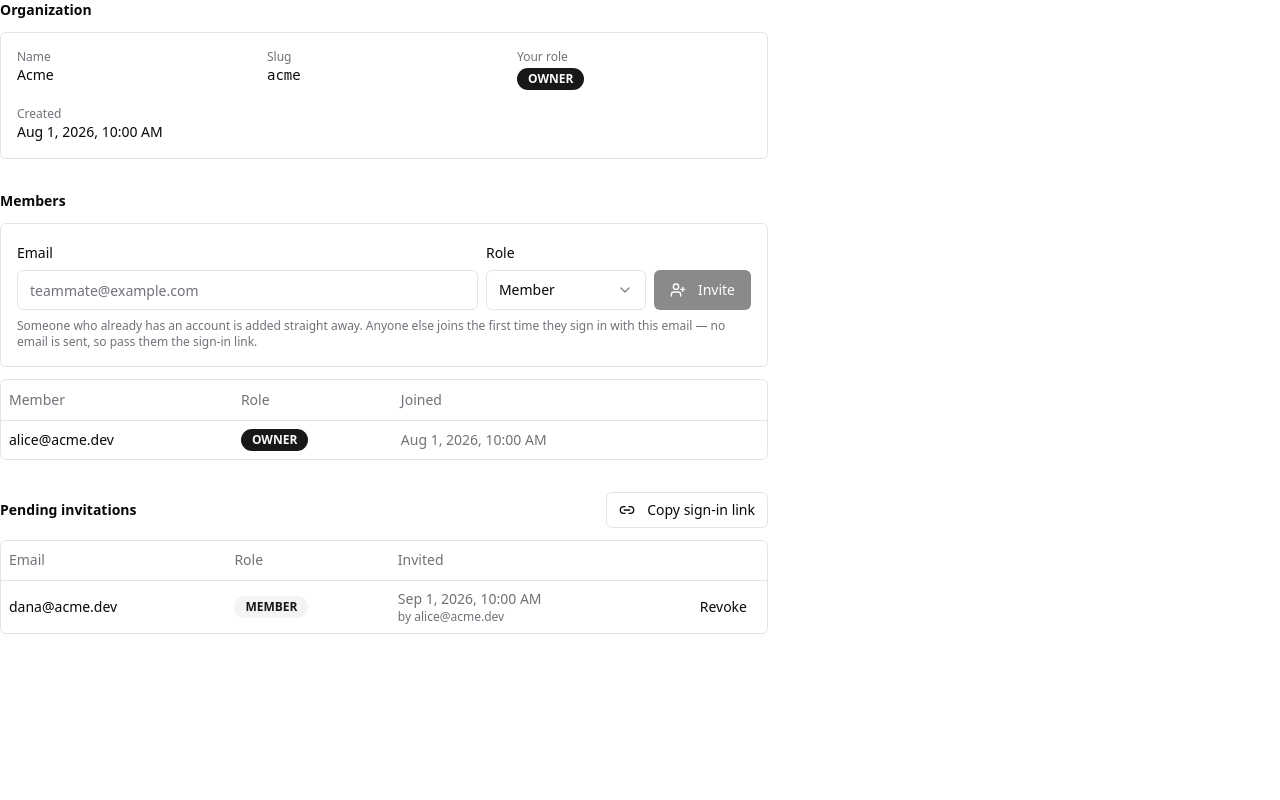
Test case: OrganizationTab invitations › revokes a pending invitation after confirming
This screenshot has width=1280, height=800.
Expected: the text "MEMBER" is shown, [234,596,308,618]
Click the button with test id "invitation-revoke-dana@acme.dev": (723, 607) [688,589,759,625]
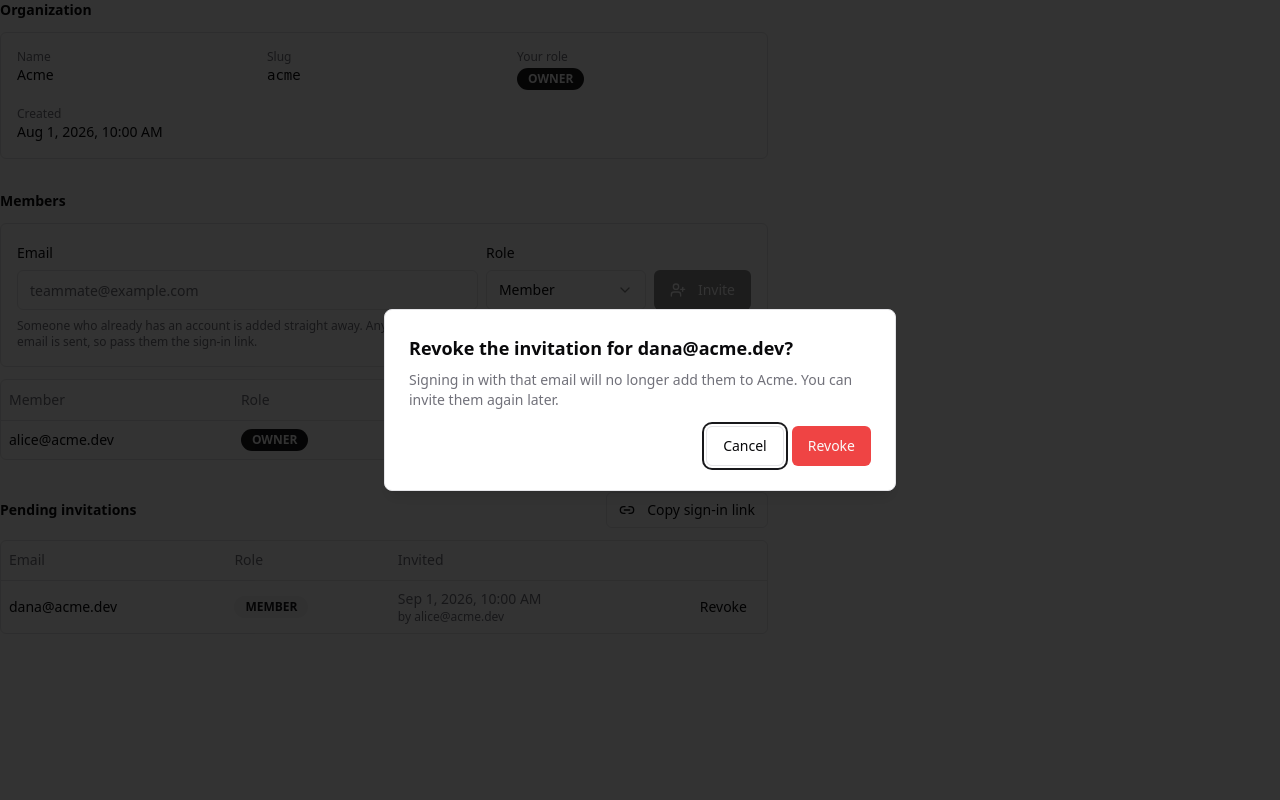
Click the button with test id "invitation-revoke-confirm": (831, 446) [792,426,871,466]
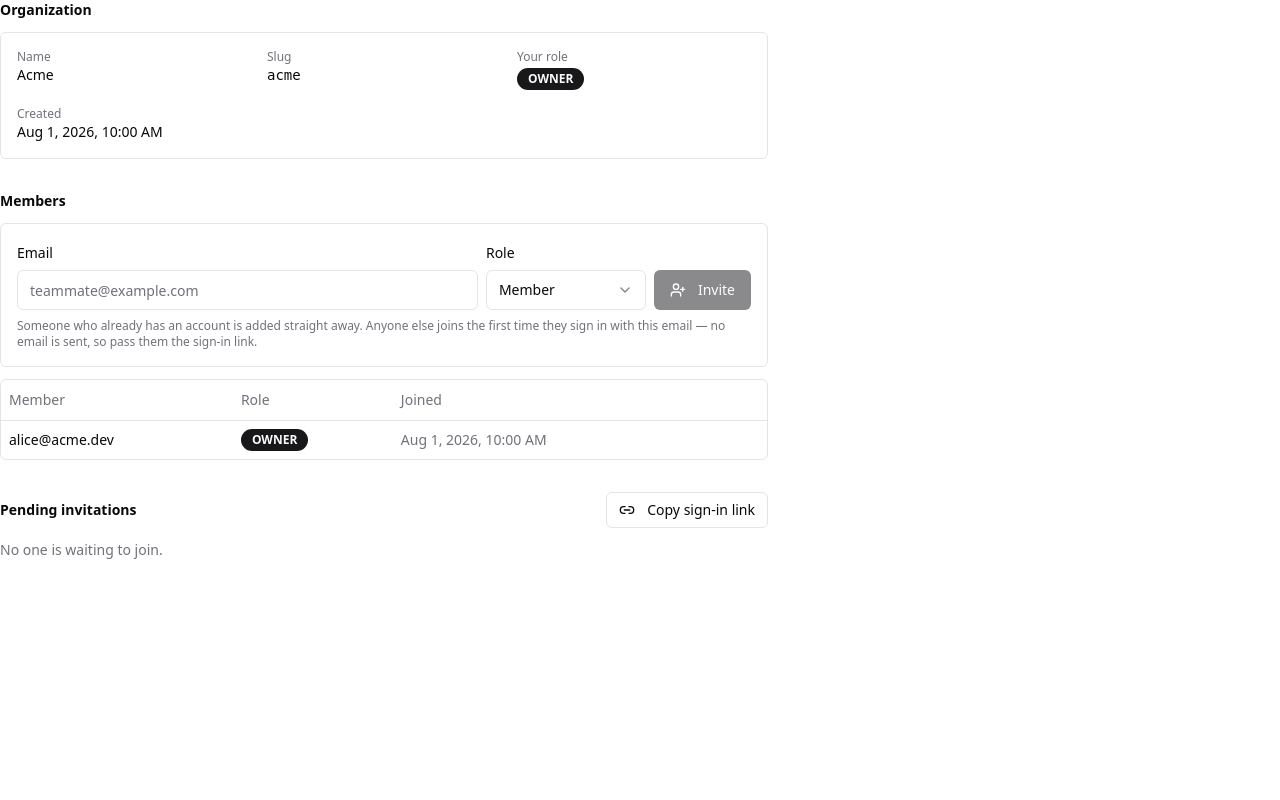
Now the text "No one is waiting to join." is shown, box [0,540,163,558]
